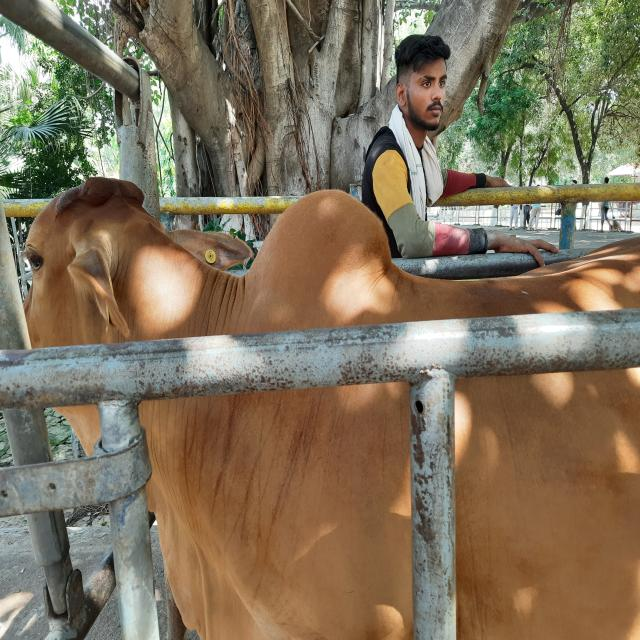cow: (22, 176, 639, 639)
hump: (245, 190, 400, 276)
